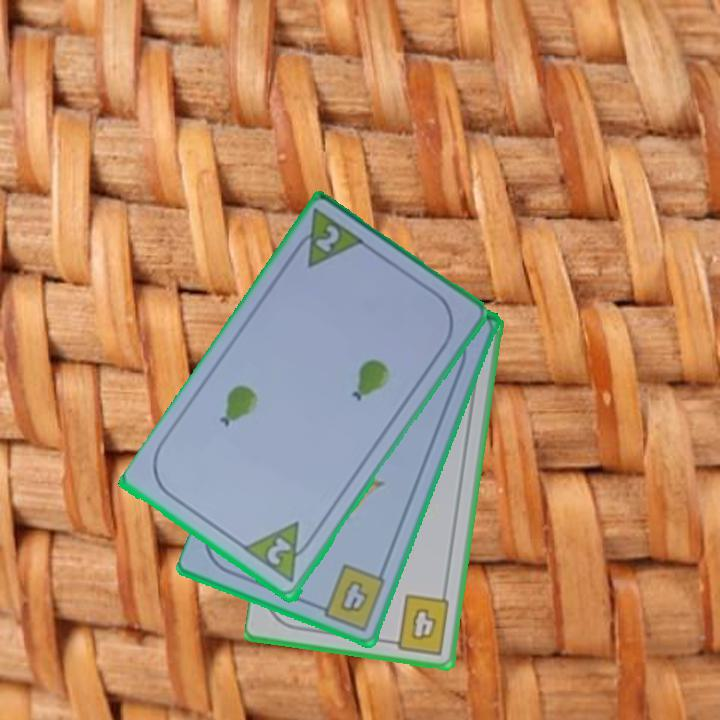2p: (263, 534, 294, 569), (312, 222, 343, 257)
4b: (311, 561, 389, 634), (384, 591, 453, 658)
